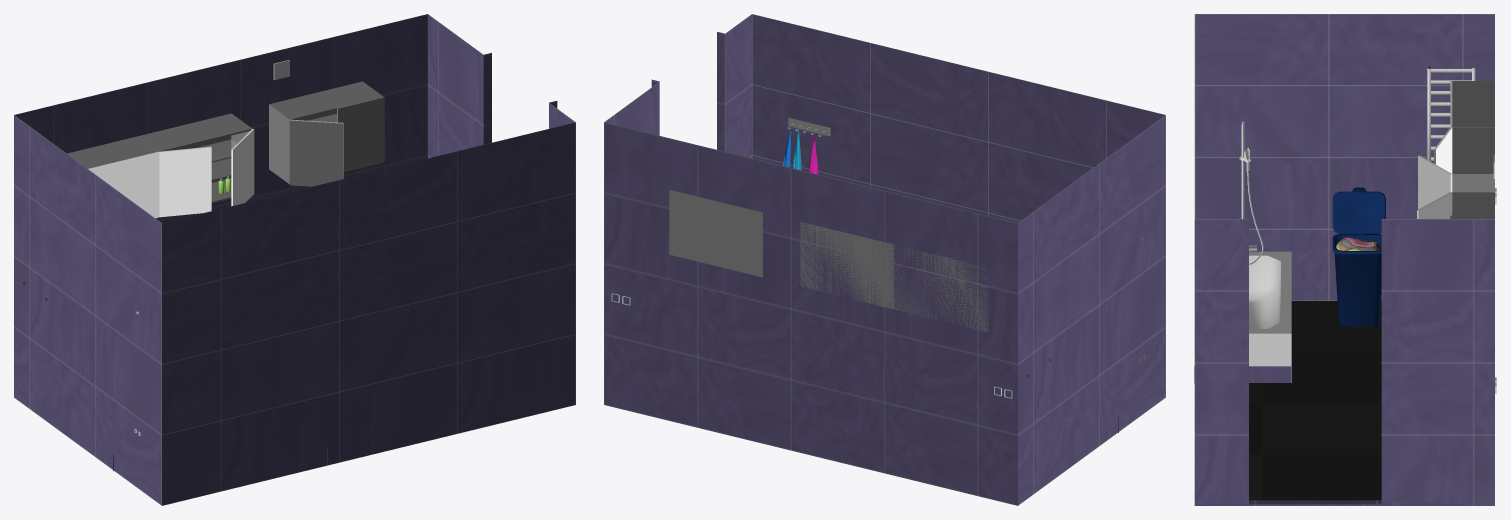
The model's file is bathroommm.obj.
The picture shows the model from 3 angles, left to right: view 1: azimuth 30°, elevation 25°; view 2: azimuth 150°, elevation 25°; view 3: azimuth 270°, elevation 25°; orthographic projection.
Parts seen in each view (by area): view 1: obj92, obj59, obj52, obj57, obj54, obj62, obj61, obj56; view 2: obj92, obj52, obj57, obj61, obj89; view 3: obj92, obj91, obj50, obj1, obj57, obj59, obj61, obj52, obj36, obj93, obj49, obj53 (+2 smaller).
Boxes of the visible parts, x1=… form: obj92: x1=14, y1=14, x2=575, y2=505; obj59: x1=88, y1=128, x2=254, y2=218; obj52: x1=269, y1=81, x2=383, y2=183; obj57: x1=138, y1=113, x2=252, y2=203; obj54: x1=289, y1=120, x2=342, y2=186; obj62: x1=337, y1=97, x2=384, y2=172; obj61: x1=67, y1=136, x2=157, y2=168; obj56: x1=197, y1=139, x2=236, y2=179; obj92: x1=604, y1=14, x2=1165, y2=505; obj52: x1=669, y1=190, x2=762, y2=277; obj57: x1=800, y1=221, x2=894, y2=309; obj61: x1=894, y1=247, x2=988, y2=332; obj89: x1=783, y1=129, x2=818, y2=174; obj92: x1=1194, y1=14, x2=1494, y2=505; obj91: x1=1249, y1=301, x2=1381, y2=500; obj50: x1=1332, y1=187, x2=1385, y2=326; obj1: x1=1249, y1=251, x2=1291, y2=366; obj57: x1=1452, y1=127, x2=1494, y2=192; obj59: x1=1418, y1=81, x2=1452, y2=209; obj61: x1=1452, y1=81, x2=1494, y2=127; obj52: x1=1452, y1=192, x2=1494, y2=218; obj36: x1=1239, y1=121, x2=1263, y2=264; obj93: x1=1194, y1=366, x2=1291, y2=382; obj49: x1=1431, y1=68, x2=1471, y2=160; obj53: x1=1417, y1=192, x2=1452, y2=218.
Bounding box in the file's own units: 21.7 × 13.87 × 13.22.
